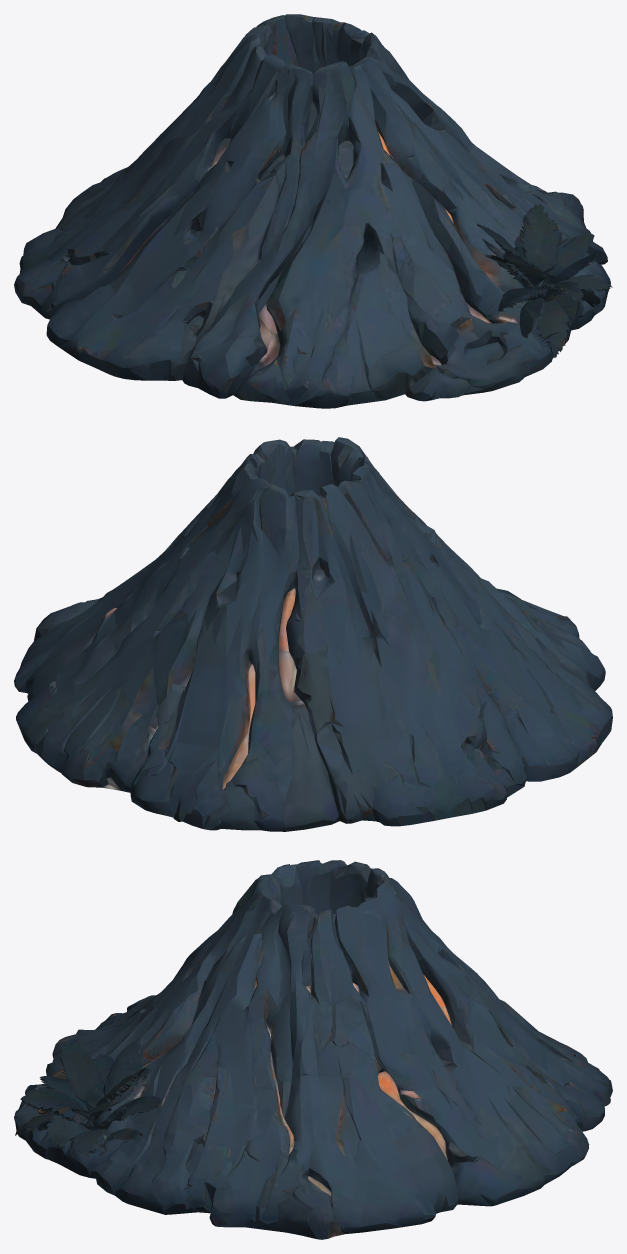
Rendered from mayon.glb.
3 renders of one model, top to bottom at view 1: azimuth 30°, elevation 25°; view 2: azimuth 150°, elevation 25°; view 3: azimuth 270°, elevation 25°, orthographic. The views are drawn at different scales.
Visible parts, largest first — view 1: mesh_node; view 2: mesh_node; view 3: mesh_node.
Boxes of the visible parts, x1,y1,x2,y2 form: mesh_node: (14,14,612,408); mesh_node: (14,437,612,831); mesh_node: (14,860,612,1239).
Bounding box in the file's own units: 1.88 × 0.8186 × 1.9.
Materials: 1 (1 with a texture image).
